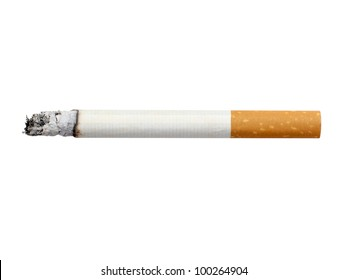cigarette: (18, 98, 327, 149)
